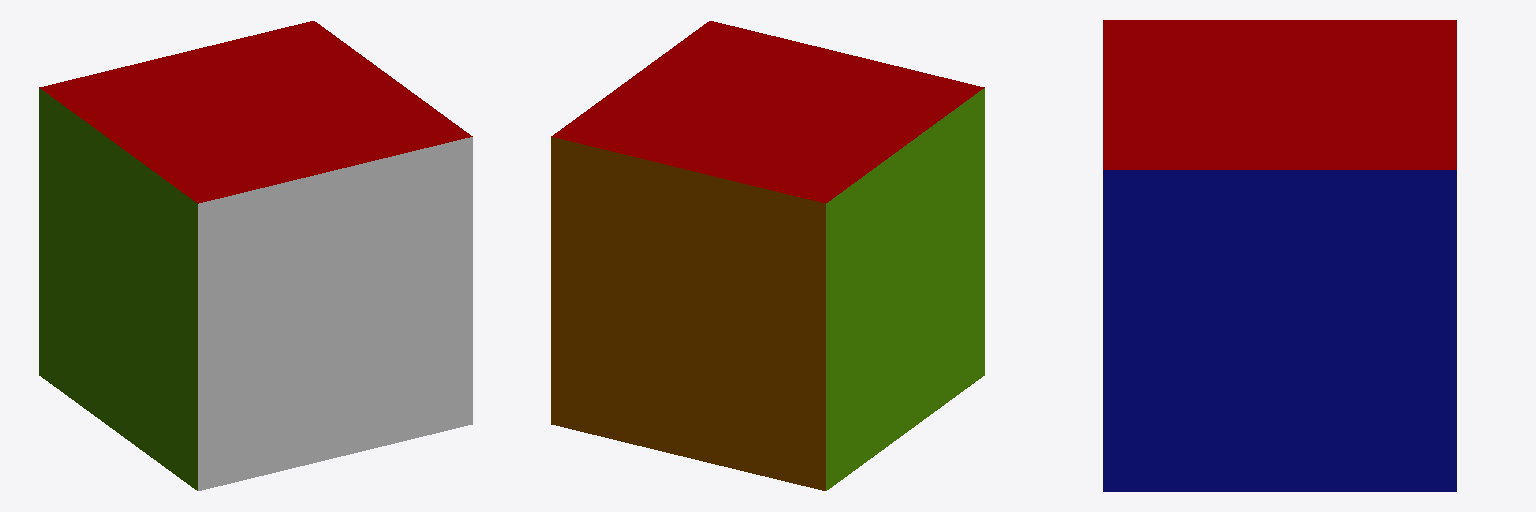
The robot description file, URDF, robot "origin":
<robot
  name="origin">
  <link name="origin">
    <inertial>
      <origin xyz="0.0 0.0 0.0" rpy="0 0 0"/>
      <mass value="0.5"/>
      <inertia ixx="1" ixy="0.0" ixz="0.0" iyy="1" iyz="0.0" izz="1" />
    </inertial>

    <visual>
      <geometry>
        <mesh filename="meshes/origin.dae" scale="1 1 1" />
      </geometry>
     </visual>

    <collision>
      <geometry>
        <mesh filename="meshes/origin.dae" scale="1 1 1" />
      </geometry>
    </collision>

  </link>
</robot>

--- What the picture shows (computed from the rendered views, not written in the file) ---
3 views of the same robot in one strip: view 1: azimuth 30°, elevation 25°; view 2: azimuth 150°, elevation 25°; view 3: azimuth 270°, elevation 25° (orthographic).
Robot: origin — 1 links, 0 joints (none); root link origin; default pose: every joint at zero.
Visible links, largest first — view 1: origin; view 2: origin; view 3: origin.
Boxes of the visible links, box(x1,y1,x2,y2) form: origin: box(39, 21, 472, 490); origin: box(551, 21, 984, 490); origin: box(1103, 20, 1456, 491).
Bounding box of the posed robot: 0.2 × 0.2 × 0.2 m (x, y, z).
Meshes: 1 distinct files referenced, 1 mesh visuals loaded (1 Collada DAE).